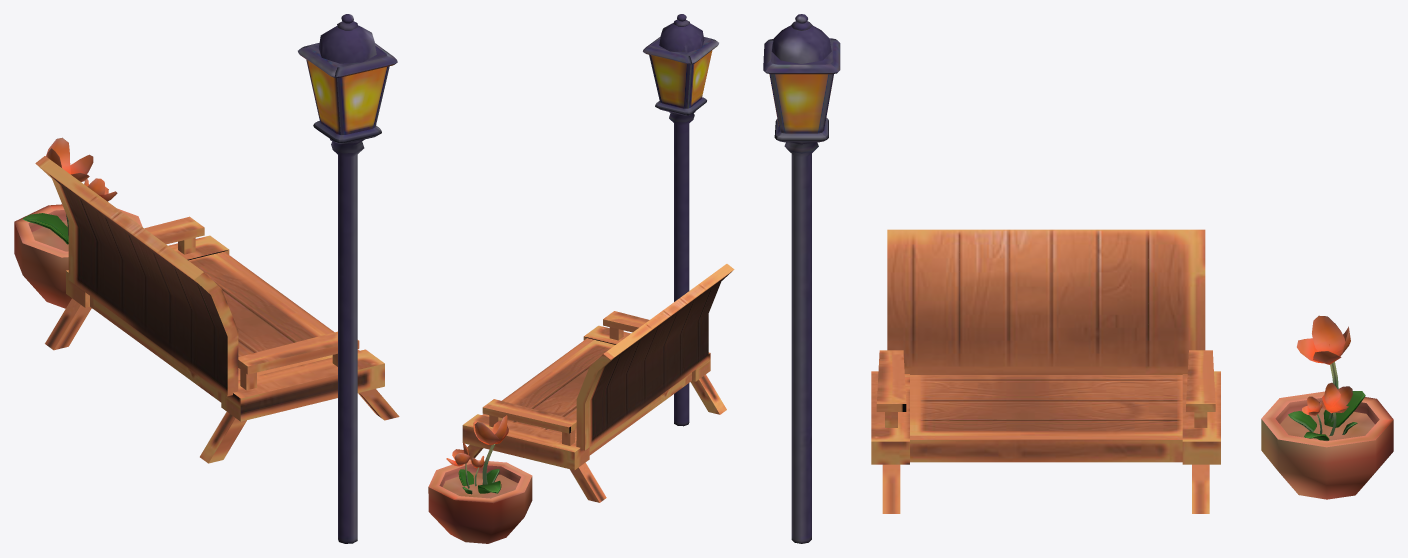
File: SM_ChangJingYuanSu.fbx
3 renders of one model, left to right at view 1: azimuth 30°, elevation 25°; view 2: azimuth 150°, elevation 25°; view 3: azimuth 270°, elevation 25°, orthographic. The views are drawn at different scales.
Visible parts, largest first — view 1: SM_ChangJingYuanSu; view 2: SM_ChangJingYuanSu; view 3: SM_ChangJingYuanSu.
Boxes of the visible parts, x1,y1,x2,y2 form: SM_ChangJingYuanSu: [14, 14, 399, 543]; SM_ChangJingYuanSu: [428, 14, 734, 543]; SM_ChangJingYuanSu: [763, 14, 1393, 543].
Size of the model in its own units: 163 by 402 by 438.
Materials: 1 (1 with a texture image).
